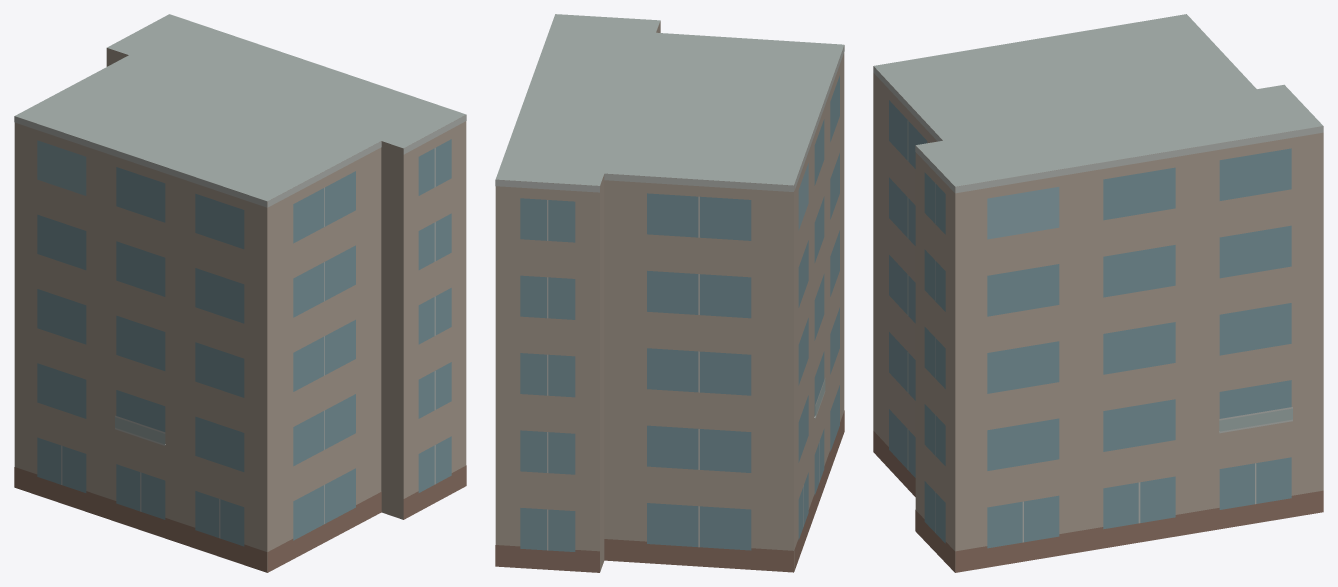
Rendered from survey-upis-32718087.glb.
The picture shows the model from 3 angles, left to right: view 1: azimuth 30°, elevation 25°; view 2: azimuth 150°, elevation 25°; view 3: azimuth 270°, elevation 25°; orthographic projection. The views are drawn at different scales.
Visible parts, largest first — view 1: survey-upis-32718087.tmp; view 2: survey-upis-32718087.tmp; view 3: survey-upis-32718087.tmp.
Part boxes in pixels (box(x1,y1,x2,y2)): survey-upis-32718087.tmp: box(14, 14, 466, 572); survey-upis-32718087.tmp: box(495, 14, 844, 572); survey-upis-32718087.tmp: box(873, 14, 1323, 572).
Bounding box in the file's own units: 13.63 × 14.2 × 15.01.
